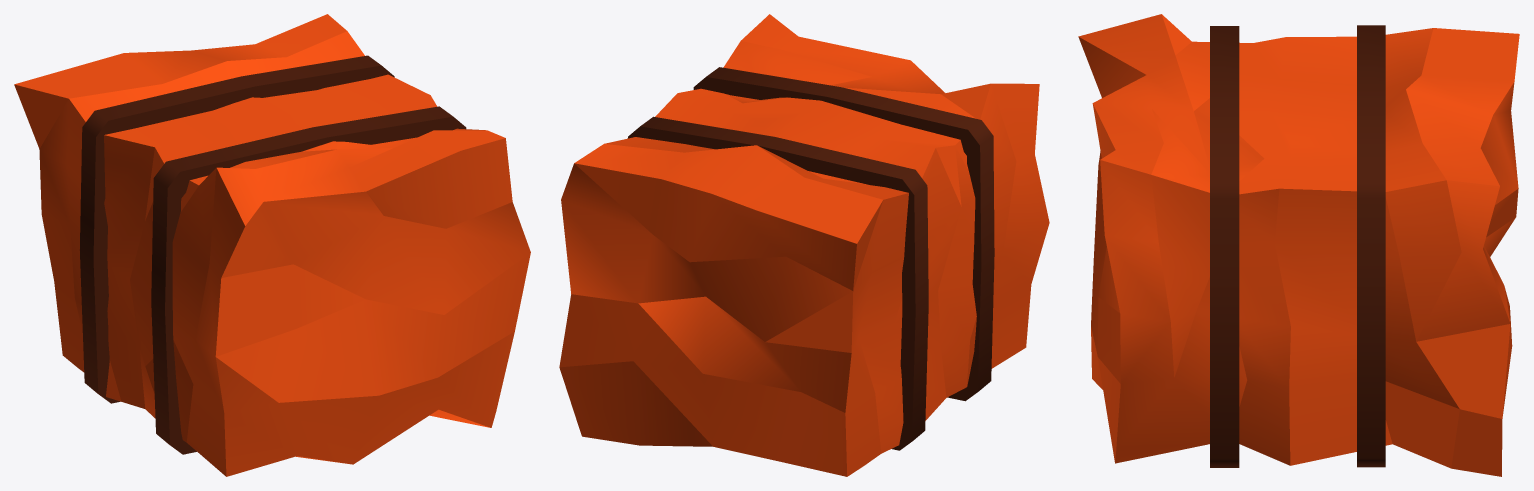
The model's file is Hay_4.fbx.
3 views of the same model, side by side, from view 1: azimuth 30°, elevation 25°; view 2: azimuth 150°, elevation 25°; view 3: azimuth 270°, elevation 25° (orthographic). The views are drawn at different scales.
Visible parts, largest first — view 1: Hay_4; view 2: Hay_4; view 3: Hay_4.
Boxes of the visible parts, <box> form: Hay_4: <box>14,14,530,476</box>; Hay_4: <box>559,14,1049,476</box>; Hay_4: <box>1078,14,1519,476</box>.
Size of the model in its own units: 22.49 by 20.86 by 25.14.
